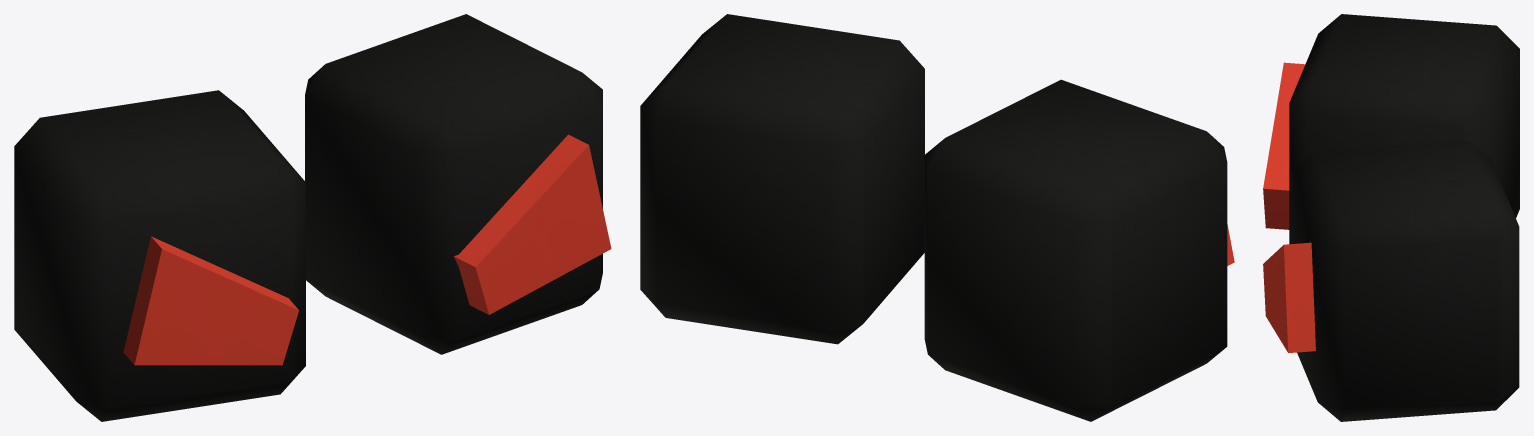
The model's file is eyes_skeleton_angry.fbx.
The picture shows the model from 3 angles, left to right: view 1: azimuth 30°, elevation 25°; view 2: azimuth 150°, elevation 25°; view 3: azimuth 270°, elevation 25°; orthographic projection. The views are drawn at different scales.
Parts seen in each view (by area): view 1: eyes_skeleton_angry; view 2: eyes_skeleton_angry; view 3: eyes_skeleton_angry.
Part boxes in pixels (<box>): eyes_skeleton_angry: <box>14,14,611,421</box>; eyes_skeleton_angry: <box>640,14,1234,421</box>; eyes_skeleton_angry: <box>1263,14,1519,421</box>.
Size of the model in its own units: 39.14 by 16.53 by 18.93.
